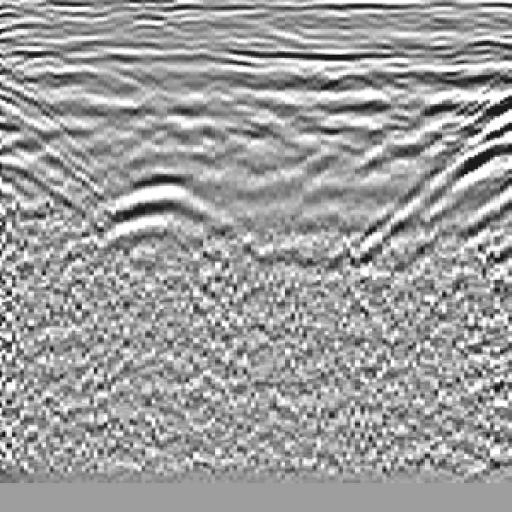metalic: (92, 54, 225, 280)
nonmetalic: (333, 58, 512, 294)
